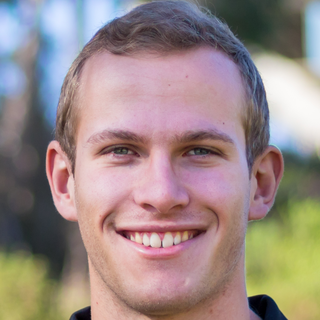eye: (95, 140, 145, 165), (177, 140, 227, 164)
